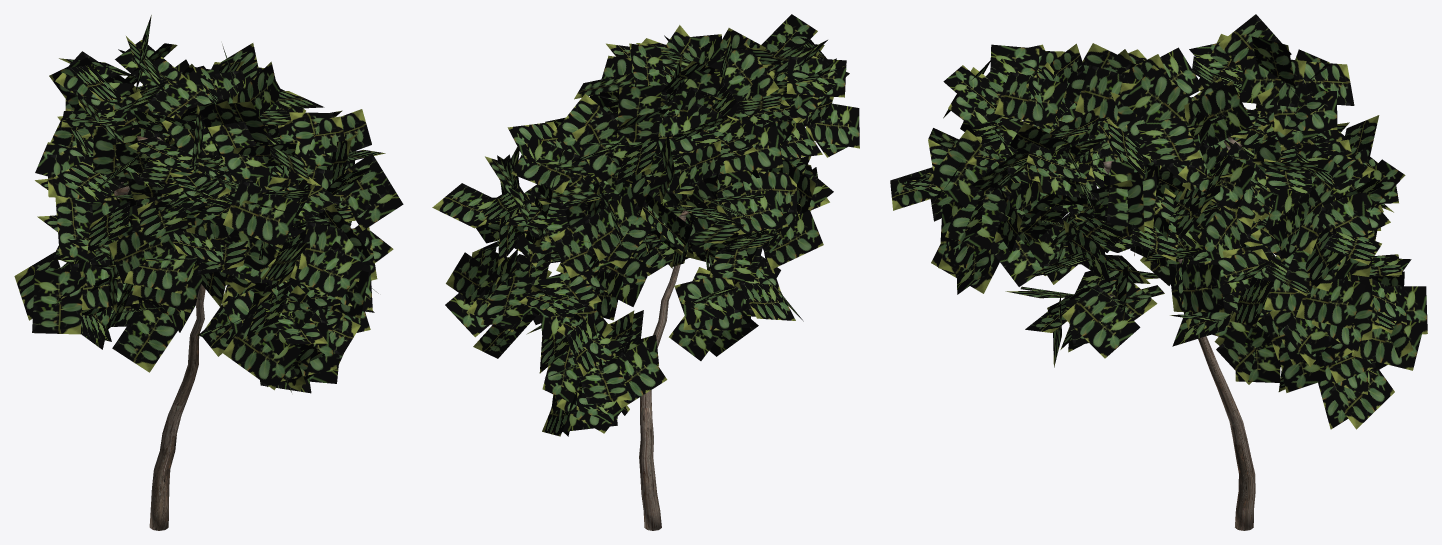
Rendered from tree-compact-01-lod0.glb.
3 views of the same model, side by side, from view 1: azimuth 30°, elevation 25°; view 2: azimuth 150°, elevation 25°; view 3: azimuth 270°, elevation 25° (orthographic). The views are drawn at different scales.
Visible parts, largest first — view 1: tree-compact-01_MATERIAL_BATCH; view 2: tree-compact-01_MATERIAL_BATCH; view 3: tree-compact-01_MATERIAL_BATCH.
Part boxes in pixels (x1,y1,x2,y2): tree-compact-01_MATERIAL_BATCH: (14,15,403,530); tree-compact-01_MATERIAL_BATCH: (432,14,859,530); tree-compact-01_MATERIAL_BATCH: (890,14,1427,530).
Bounding box in the file's own units: 5.58 × 8 × 7.98.
3 materials, 3 textured.
